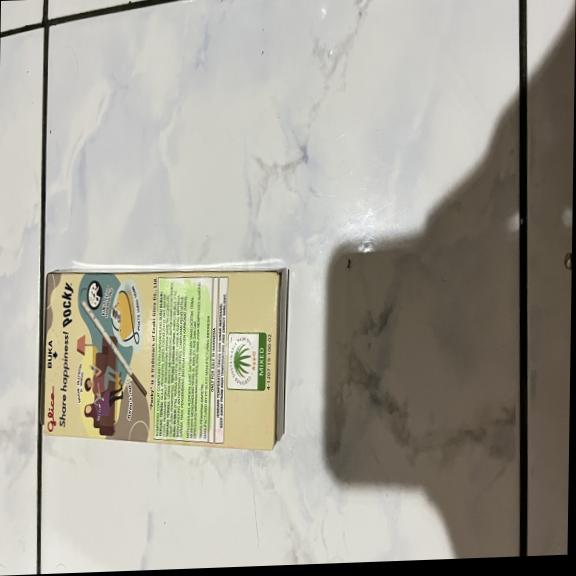Kertas: (40, 258, 277, 459)
